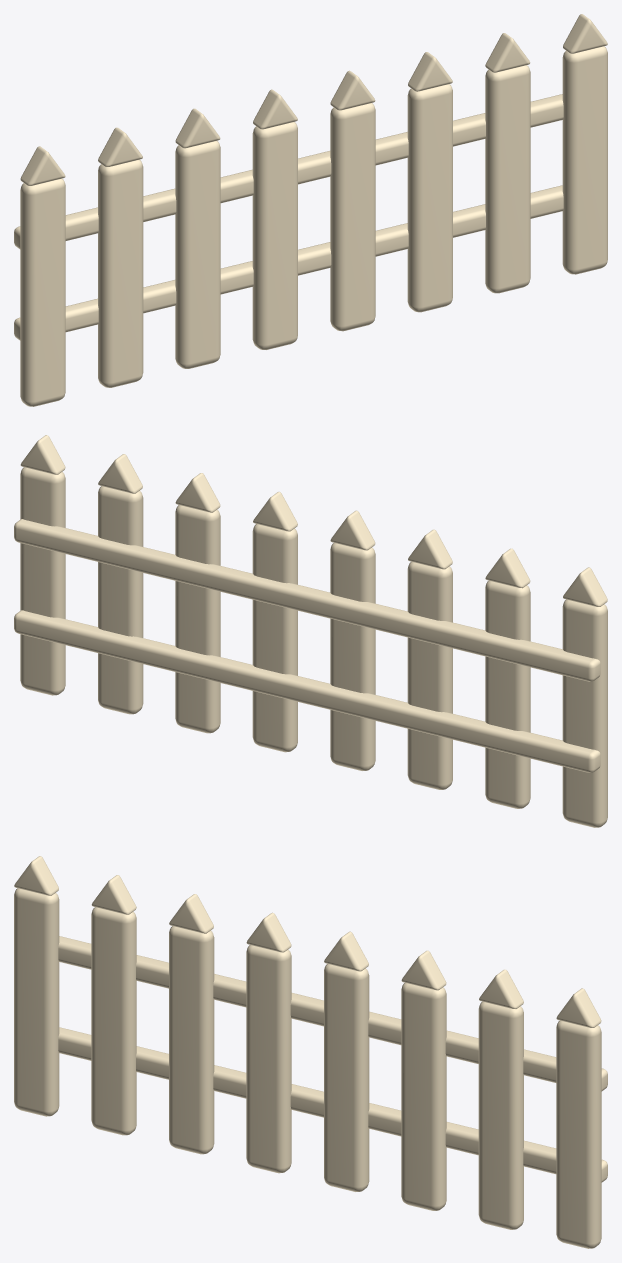
Rendered from Picket_fence.fbx.
3 renders of one model, top to bottom at view 1: azimuth 30°, elevation 25°; view 2: azimuth 150°, elevation 25°; view 3: azimuth 330°, elevation 25°, orthographic.
Parts seen in each view (by area): view 1: Town_Picket_fence Picket.009, Town_Picket_fence Picket.008, Town_Picket_fence Picket.014, Town_Picket_fence Picket.012, Town_Picket_fence Picket.010, Town_Picket_fence Picket.015, Town_Picket_fence Picket.011, Town_Picket_fence Picket.013, Town_Picket_fence Fence rail.002, Town_Picket_fence Fence rail.003, Town_Picket_fence Picket point.011, Town_Picket_fence Picket point.010 (+6 smaller); view 2: Town_Picket_fence Fence rail.002, Town_Picket_fence Fence rail.003, Town_Picket_fence Picket.008, Town_Picket_fence Picket.015, Town_Picket_fence Picket.013, Town_Picket_fence Picket.014, Town_Picket_fence Picket.012, Town_Picket_fence Picket.009, Town_Picket_fence Picket.010, Town_Picket_fence Picket.011, Town_Picket_fence Picket point.009, Town_Picket_fence Picket point.011 (+6 smaller); view 3: Town_Picket_fence Picket.014, Town_Picket_fence Picket.015, Town_Picket_fence Picket.009, Town_Picket_fence Picket.011, Town_Picket_fence Picket.008, Town_Picket_fence Picket.013, Town_Picket_fence Picket.010, Town_Picket_fence Picket.012, Town_Picket_fence Fence rail.002, Town_Picket_fence Fence rail.003, Town_Picket_fence Picket point.012, Town_Picket_fence Picket point.010 (+6 smaller).
Part boxes in pixels (x1,y1,x2,y2): Town_Picket_fence Picket.009: (98,159,143,387); Town_Picket_fence Picket.008: (20,178,65,406); Town_Picket_fence Picket.014: (485,65,530,293); Town_Picket_fence Picket.012: (330,103,375,331); Town_Picket_fence Picket.010: (175,141,220,368); Town_Picket_fence Picket.015: (562,46,607,274); Town_Picket_fence Picket.011: (252,122,297,349); Town_Picket_fence Picket.013: (407,84,452,312); Town_Picket_fence Fence rail.002: (14,185,563,340); Town_Picket_fence Fence rail.003: (14,94,563,249); Town_Picket_fence Picket point.011: (253,89,297,129); Town_Picket_fence Picket point.010: (175,108,220,148); Town_Picket_fence Fence rail.002: (14,610,600,772); Town_Picket_fence Fence rail.003: (14,519,600,681); Town_Picket_fence Picket.008: (562,599,607,827); Town_Picket_fence Picket.015: (20,467,65,695); Town_Picket_fence Picket.013: (175,505,220,733); Town_Picket_fence Picket.014: (98,486,143,714); Town_Picket_fence Picket.012: (252,524,297,752); Town_Picket_fence Picket.009: (485,580,530,808); Town_Picket_fence Picket.010: (407,562,452,789); Town_Picket_fence Picket.011: (330,543,375,770); Town_Picket_fence Picket point.009: (485,548,530,588); Town_Picket_fence Picket point.011: (330,510,375,550); Town_Picket_fence Picket.014: (478,1001,523,1229); Town_Picket_fence Picket.015: (556,1020,601,1248); Town_Picket_fence Picket.009: (91,907,136,1135); Town_Picket_fence Picket.011: (246,945,291,1173); Town_Picket_fence Picket.008: (14,888,59,1116); Town_Picket_fence Picket.013: (401,983,446,1210); Town_Picket_fence Picket.010: (169,926,214,1154); Town_Picket_fence Picket.012: (324,964,369,1191); Town_Picket_fence Fence rail.002: (58,1027,607,1182); Town_Picket_fence Fence rail.003: (58,936,607,1091); Town_Picket_fence Picket point.012: (324,931,368,971); Town_Picket_fence Picket point.010: (169,894,213,933).
Bounding box in the file's own units: 301 × 125 × 15.5.
